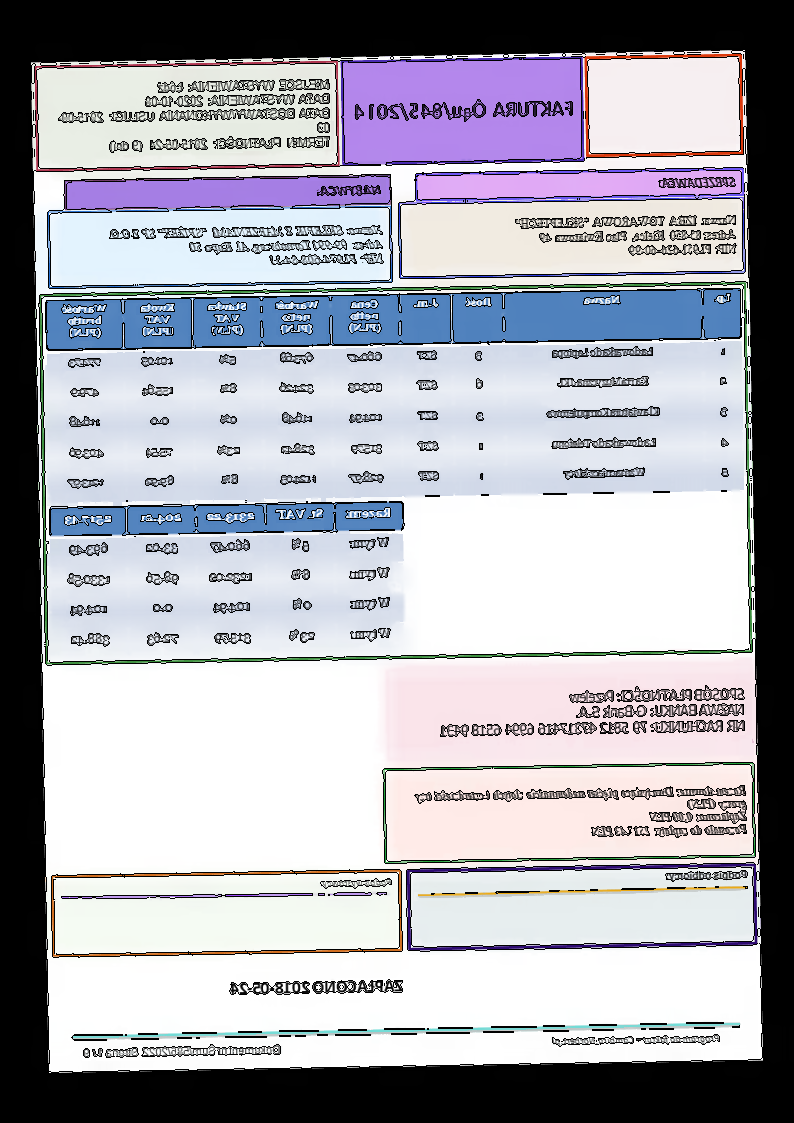Table: (47, 285, 746, 502), (48, 499, 407, 661)
TextBox: (55, 74, 334, 157), (412, 781, 750, 843), (435, 682, 748, 742), (107, 220, 386, 269), (513, 209, 740, 262), (352, 94, 577, 126), (227, 975, 405, 999), (83, 1040, 284, 1060), (551, 1031, 722, 1048), (662, 866, 750, 884), (657, 173, 737, 192), (320, 872, 395, 892), (314, 181, 385, 200)
